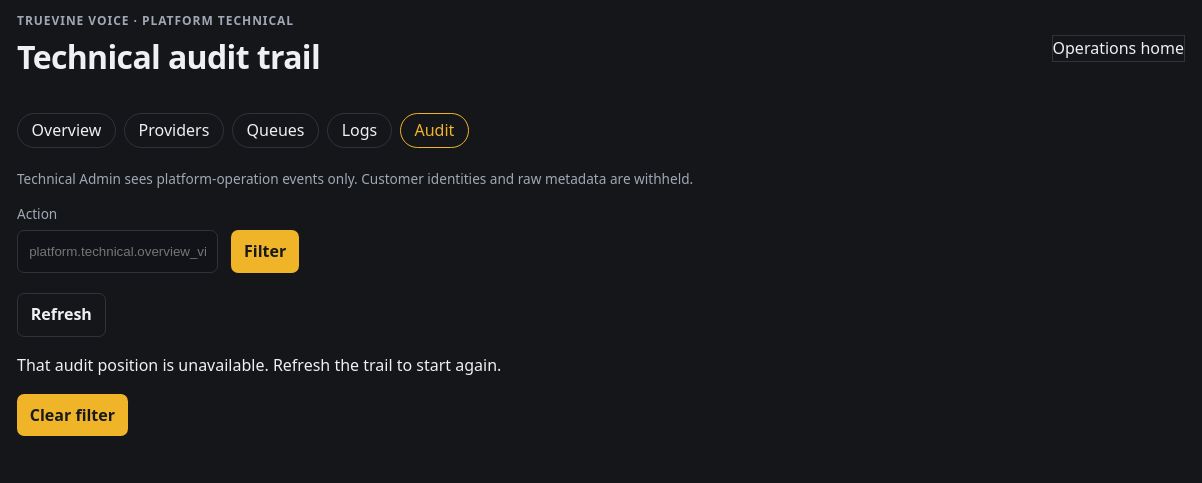
it: Technical Admin pages › explains audit query error 404/audit_cursor_not_found and recovers by clearing it
The image size is (1202, 483).
Expected: the message "That audit position is unavailable. Refresh the trail to start again." is shown, [17,354,501,376]
What coordinates should you click on to do the following:
click the button "Clear filter"
I would click on:
 (72, 415)
Its box is [17,394,128,436].
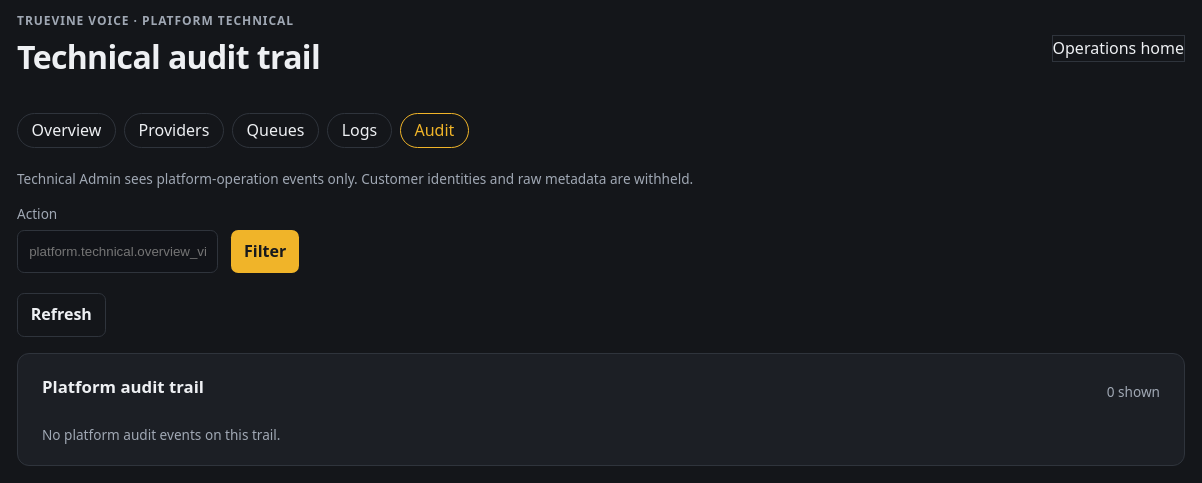
Expected: the text "No platform audit events" is shown, [42,425,280,444]
Expected: the message "That audit position is unavailable. Refresh the trail to start again." is gone
